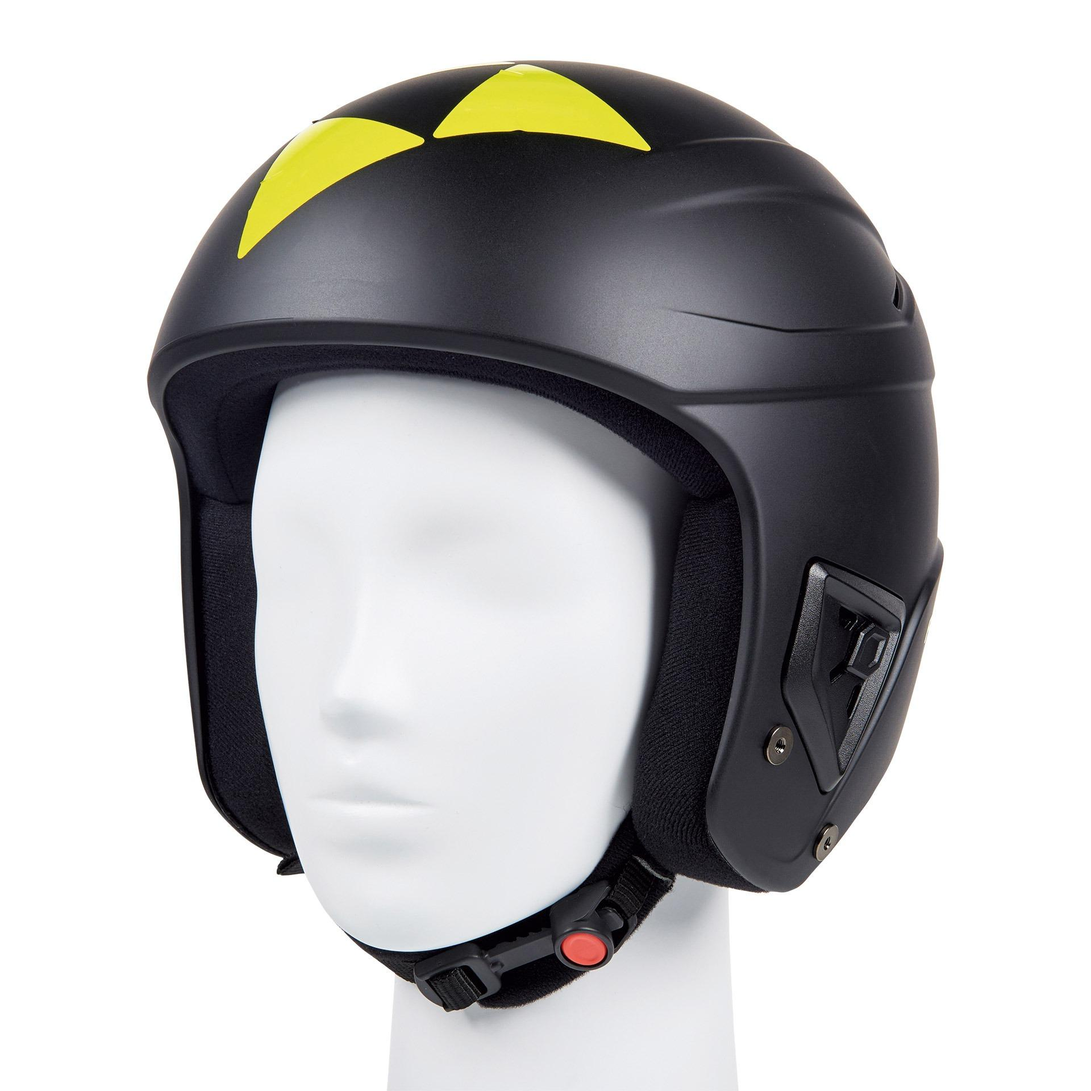helmet: (144, 57, 946, 956)
